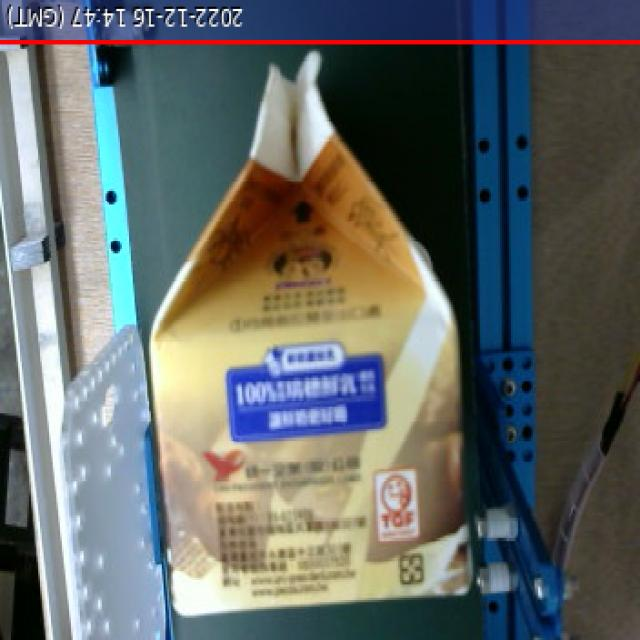non_white_jug: (120, 45, 487, 625)
